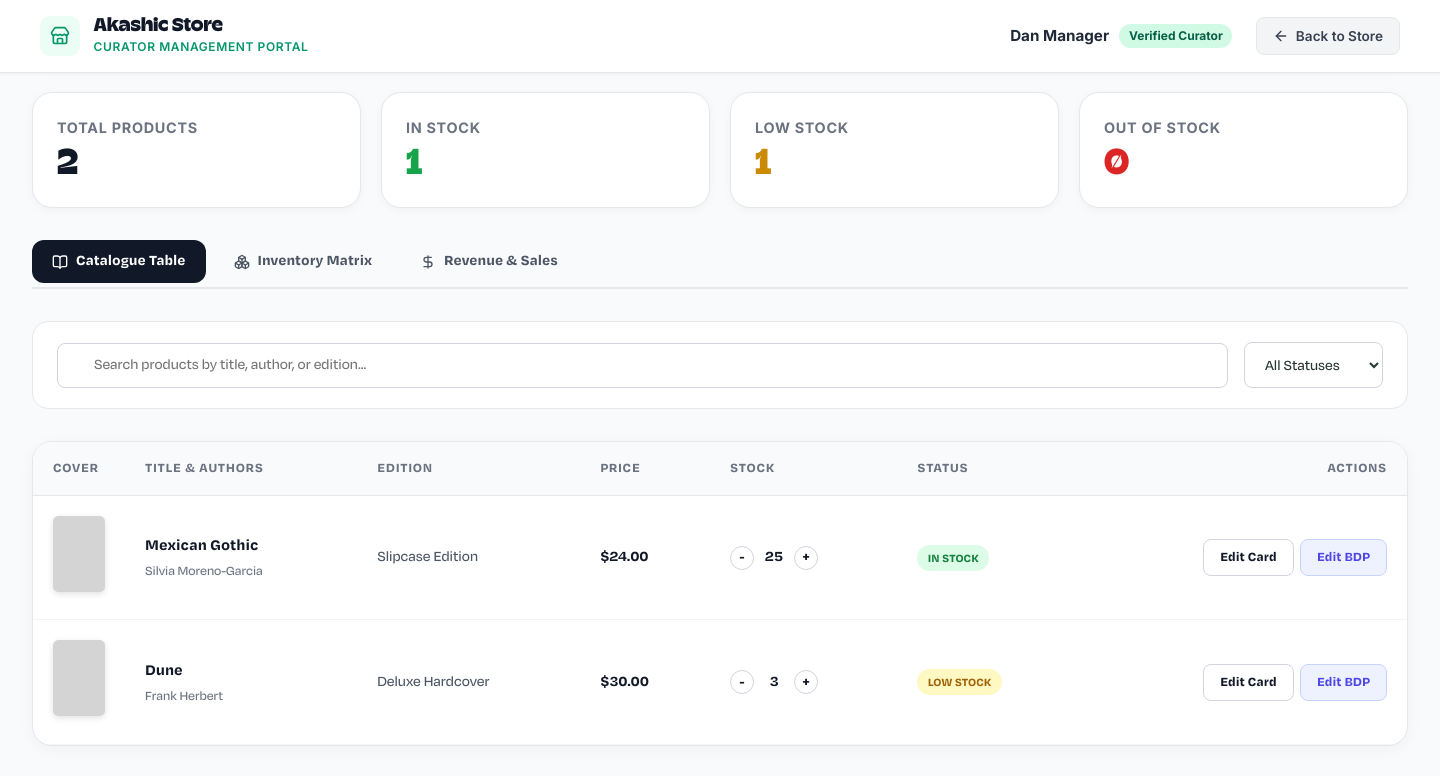
Scenario: StoreManagerPage Component › opens edit drawer populated with existing book data
(page scrolled)
Click the button with test id "edit-product-prod-101" at {"x": 1248, "y": 558}, box x1=1203 y1=539 x2=1294 y2=576
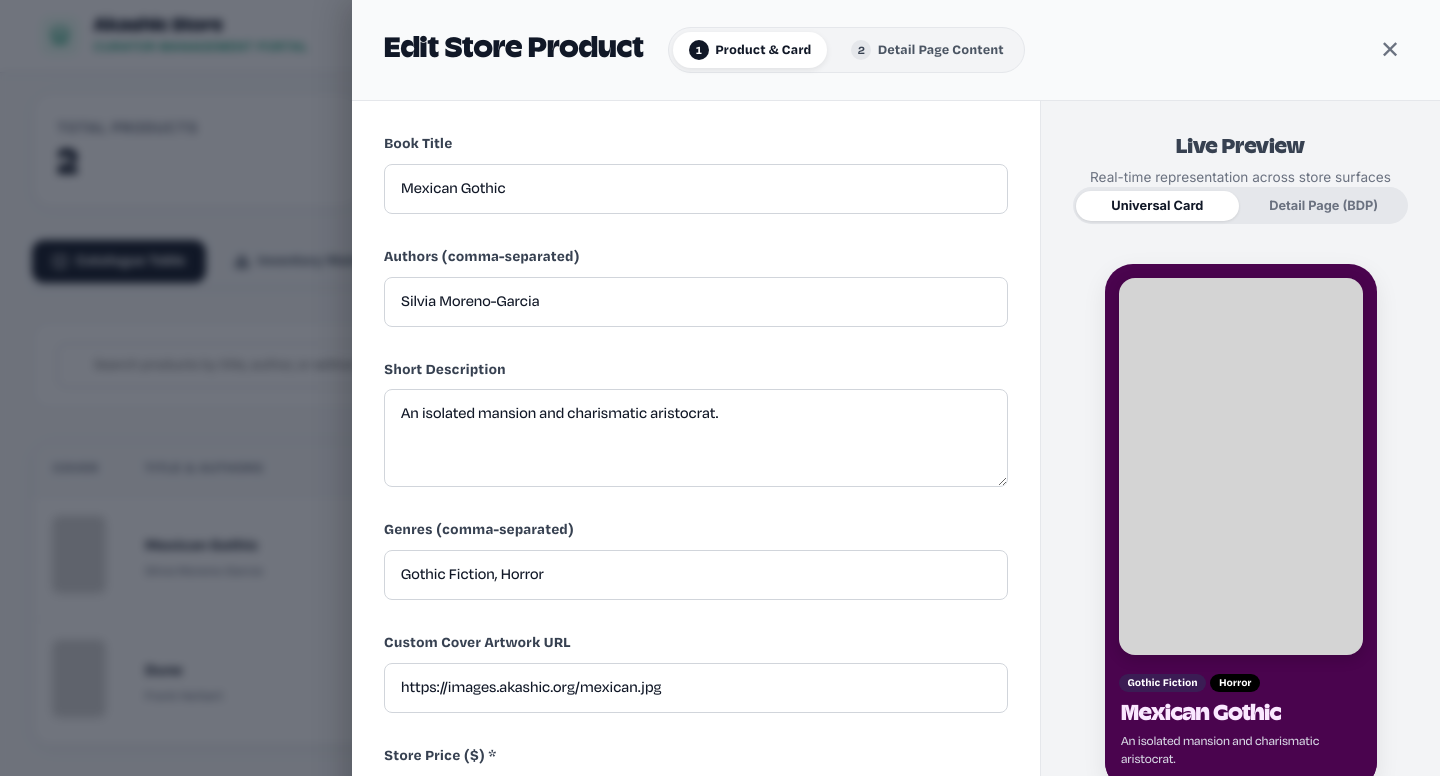
Now the heading "Edit Store Product" is shown, box x1=384 y1=29 x2=644 y2=71
Now the field labelled "Book Title" holds "Mexican Gothic", box x1=384 y1=164 x2=1008 y2=214
